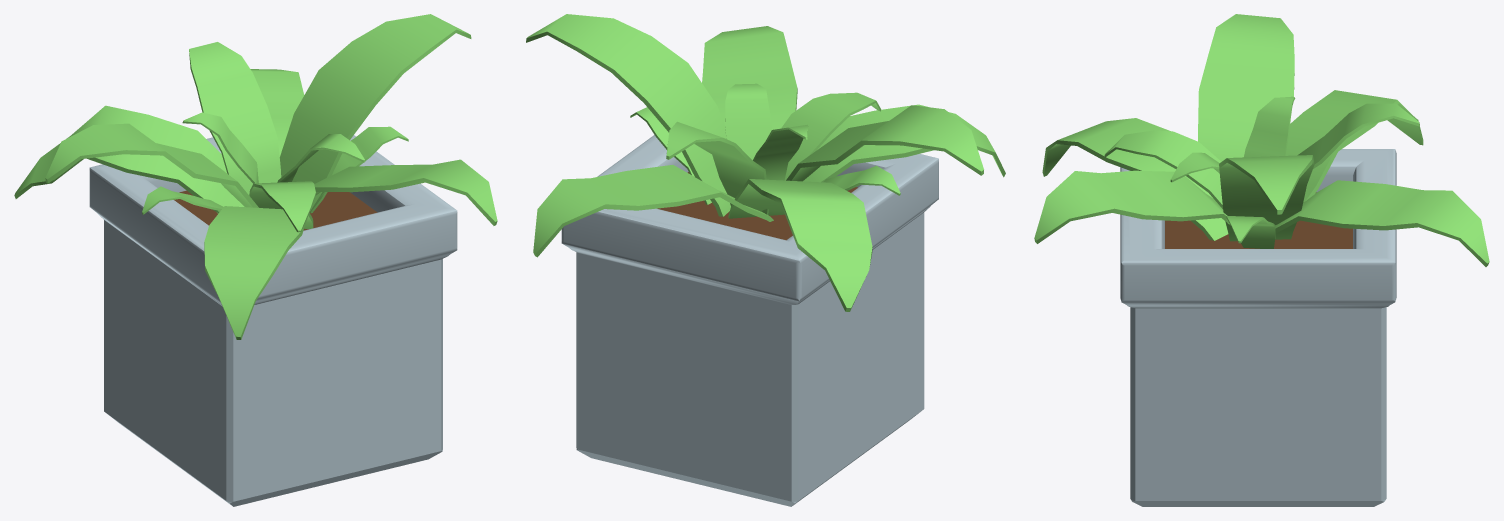
The model's file is Planter small.fbx.
3 renders of one model, left to right at view 1: azimuth 30°, elevation 25°; view 2: azimuth 150°, elevation 25°; view 3: azimuth 270°, elevation 25°, orthographic. The views are drawn at different scales.
Visible parts, largest first — view 1: Planter_Small, Plants_Small_Planter, Earth_Small_Planter; view 2: Planter_Small, Plants_Small_Planter, Earth_Small_Planter; view 3: Planter_Small, Plants_Small_Planter, Earth_Small_Planter.
Part boxes in pixels (left/top/right/bottom): Planter_Small: left=89, top=135, right=457, bottom=506; Plants_Small_Planter: left=14, top=14, right=497, bottom=339; Earth_Small_Planter: left=174, top=190, right=377, bottom=230; Planter_Small: left=561, top=135, right=938, bottom=506; Plants_Small_Planter: left=526, top=14, right=1005, bottom=311; Earth_Small_Planter: left=657, top=172, right=857, bottom=240; Planter_Small: left=1120, top=149, right=1396, bottom=506; Plants_Small_Planter: left=1034, top=14, right=1489, bottom=266; Earth_Small_Planter: left=1165, top=192, right=1352, bottom=248.
Bounding box in the file's own units: 103 × 83.38 × 92.77.
